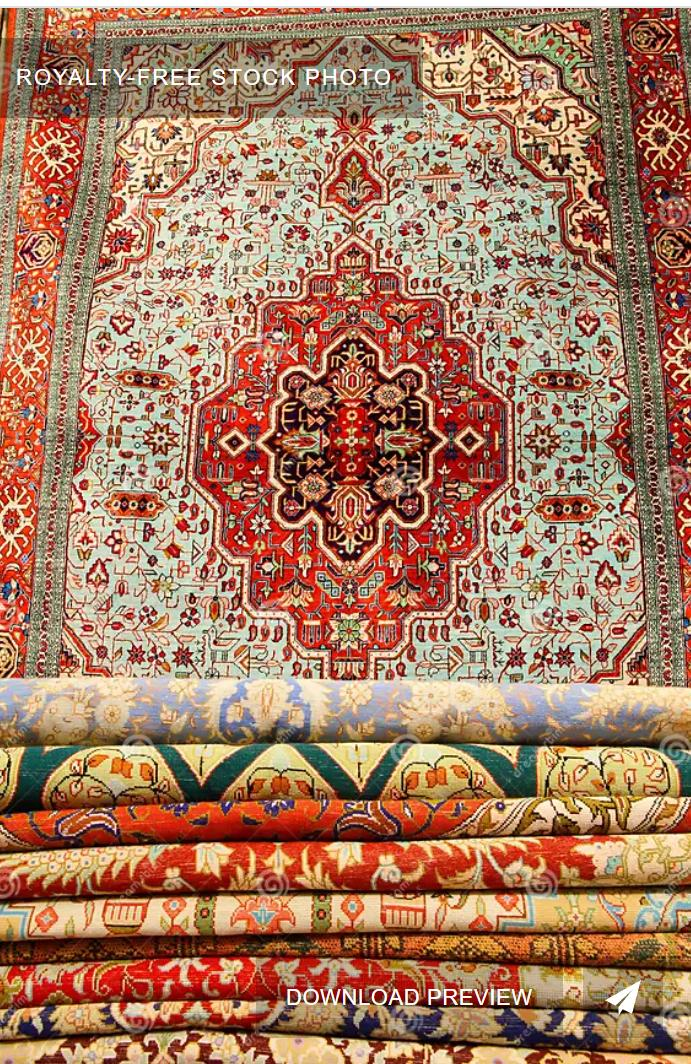carpet: (0, 10, 690, 683)
